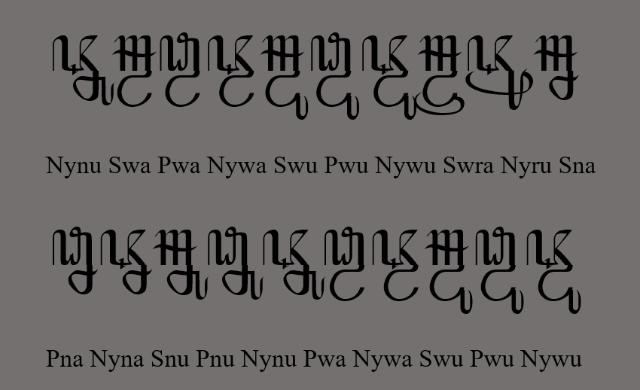Nyn: (100, 227, 152, 294)
Nynu: (262, 230, 326, 300), (52, 35, 114, 107)
Nyru: (466, 34, 532, 110)
Nyw: (208, 34, 255, 108), (372, 229, 418, 301)
Nywu: (526, 229, 582, 315), (362, 34, 416, 120)
Pn: (52, 226, 98, 296)
Pnu: (208, 226, 264, 300)
Pw: (324, 226, 366, 302), (160, 32, 200, 108)
Pwu: (310, 31, 360, 121), (475, 225, 525, 315)
Sn: (534, 35, 578, 101)
Snu: (153, 228, 210, 300)
Sw: (113, 34, 157, 108)
Swr: (414, 34, 466, 116)
Swu: (424, 228, 474, 314), (262, 35, 308, 121)
